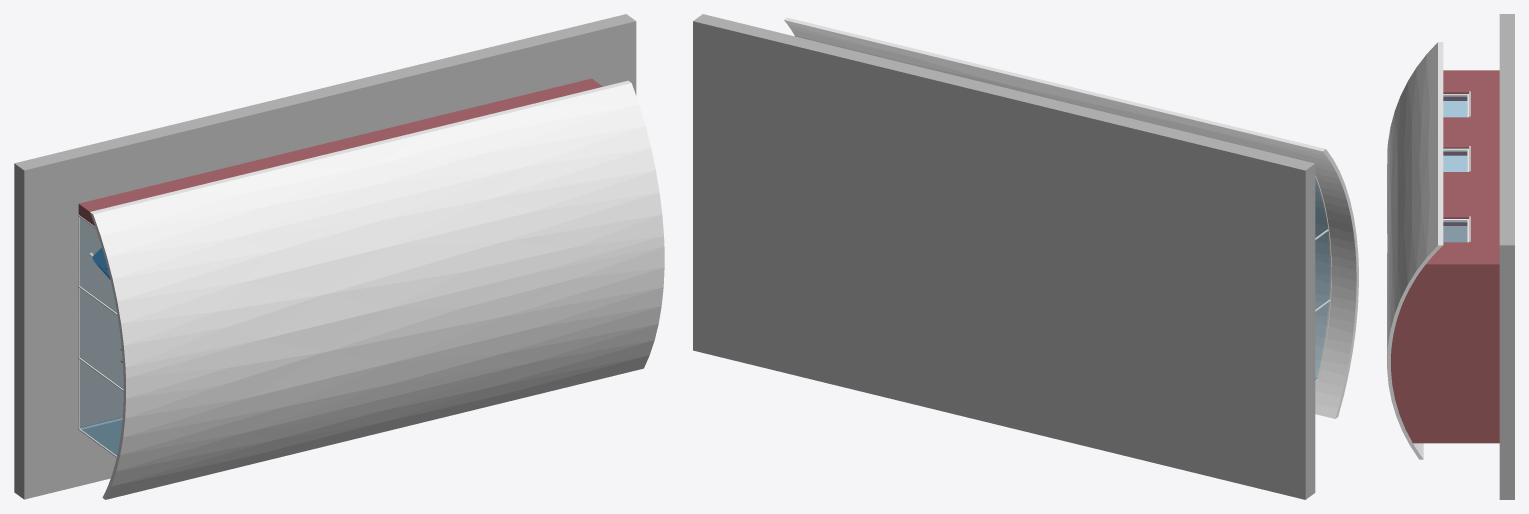
Rendered from Ifc4_SampleHouse.obj.
3 views of the same model, side by side, from view 1: azimuth 30°, elevation 25°; view 2: azimuth 150°, elevation 25°; view 3: azimuth 270°, elevation 25° (orthographic). The views are drawn at different scales.
Visible parts, largest first — view 1: product-e67aebc3-0bcc-49d1-b719-e4b4dff20ac4-body, product-e67aebc3-0bcc-49d1-b719-e4b4dff20a9a-body, product-e67aebc3-0bcc-49d1-b719-e4b4dff20e85-body, product-e67aebc3-0bcc-49d1-b719-e4b4dff20f85-body, product-e67aebc3-0bcc-49d1-b719-e4b4dff20f83-body, product-e67aebc3-0bcc-49d1-b719-e4b4dff20f98-body, product-e67aebc3-0bcc-49d1-b719-e4b4dff20fe2-body; view 2: product-e67aebc3-0bcc-49d1-b719-e4b4dff20a9a-body, product-e67aebc3-0bcc-49d1-b719-e4b4dff20ac4-body, product-e67aebc3-0bcc-49d1-b719-e4b4dff20f85-body; view 3: product-e67aebc3-0bcc-49d1-b719-e4b4dff20ec4-body, product-e67aebc3-0bcc-49d1-b719-e4b4dff20ac4-body, product-e67aebc3-0bcc-49d1-b719-e4b4dff20e85-body, product-e67aebc3-0bcc-49d1-b719-e4b4dff20a9a-body, product-e67aebc3-0bcc-49d1-b719-e4b4dff209fb-body, product-e67aebc3-0bcc-49d1-b719-e4b4dff2098e-body, product-e67aebc3-0bcc-49d1-b719-e4b4dff20a09-body, product-e67aebc3-0bcc-49d1-b719-e4b4dff20877-body, product-e67aebc3-0bcc-49d1-b719-e4b4dff20f98-body, product-e67aebc3-0bcc-49d1-b719-e4b4dff20f85-body.
Boxes of the visible parts, bbox=[...] form: product-e67aebc3-0bcc-49d1-b719-e4b4dff20ac4-body: bbox=[90, 80, 664, 499]; product-e67aebc3-0bcc-49d1-b719-e4b4dff20a9a-body: bbox=[14, 14, 636, 499]; product-e67aebc3-0bcc-49d1-b719-e4b4dff20e85-body: bbox=[78, 78, 602, 226]; product-e67aebc3-0bcc-49d1-b719-e4b4dff20f85-body: bbox=[80, 289, 122, 388]; product-e67aebc3-0bcc-49d1-b719-e4b4dff20f83-body: bbox=[80, 361, 122, 454]; product-e67aebc3-0bcc-49d1-b719-e4b4dff20f98-body: bbox=[80, 218, 116, 312]; product-e67aebc3-0bcc-49d1-b719-e4b4dff20fe2-body: bbox=[80, 418, 121, 454]; product-e67aebc3-0bcc-49d1-b719-e4b4dff20a9a-body: bbox=[693, 14, 1315, 499]; product-e67aebc3-0bcc-49d1-b719-e4b4dff20ac4-body: bbox=[784, 17, 1358, 418]; product-e67aebc3-0bcc-49d1-b719-e4b4dff20f85-body: bbox=[1316, 233, 1329, 308]; product-e67aebc3-0bcc-49d1-b719-e4b4dff20ec4-body: bbox=[1391, 273, 1499, 443]; product-e67aebc3-0bcc-49d1-b719-e4b4dff20ac4-body: bbox=[1387, 42, 1443, 459]; product-e67aebc3-0bcc-49d1-b719-e4b4dff20e85-body: bbox=[1419, 70, 1499, 272]; product-e67aebc3-0bcc-49d1-b719-e4b4dff20a9a-body: bbox=[1499, 14, 1514, 499]; product-e67aebc3-0bcc-49d1-b719-e4b4dff209fb-body: bbox=[1443, 146, 1470, 171]; product-e67aebc3-0bcc-49d1-b719-e4b4dff2098e-body: bbox=[1443, 216, 1470, 242]; product-e67aebc3-0bcc-49d1-b719-e4b4dff20a09-body: bbox=[1443, 91, 1470, 117]; product-e67aebc3-0bcc-49d1-b719-e4b4dff20877-body: bbox=[1443, 226, 1467, 242]; product-e67aebc3-0bcc-49d1-b719-e4b4dff20f98-body: bbox=[1444, 101, 1466, 116]; product-e67aebc3-0bcc-49d1-b719-e4b4dff20f85-body: bbox=[1444, 156, 1466, 171].
Size of the model in its own units: 16.87 by 8.67 by 3.95.
